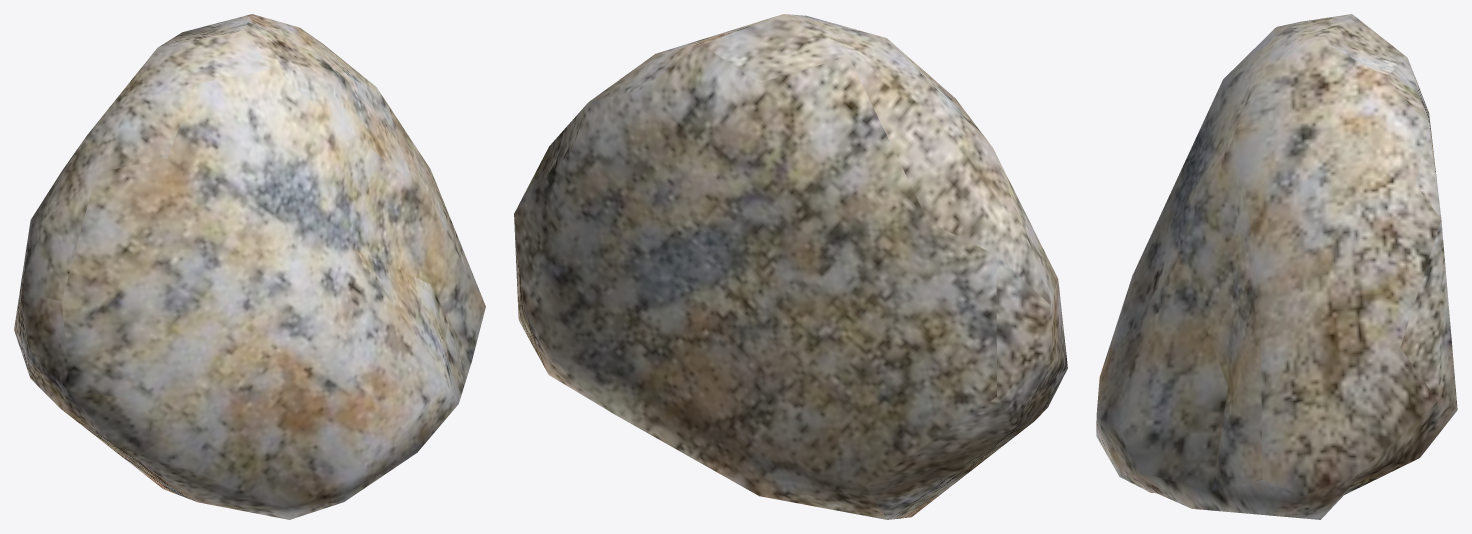
3 views of the same model, side by side, from view 1: azimuth 30°, elevation 25°; view 2: azimuth 150°, elevation 25°; view 3: azimuth 270°, elevation 25° (orthographic). The views are drawn at different scales.
Visible parts, largest first — view 1: rock015_lod4; view 2: rock015_lod4; view 3: rock015_lod4.
Part boxes in pixels (x1,y1,x2,y2): rock015_lod4: (14,14,485,519); rock015_lod4: (514,14,1067,519); rock015_lod4: (1096,14,1457,519).
Bounding box in the file's own units: 1 × 0.9189 × 0.6649.
1 material, 1 textured.
